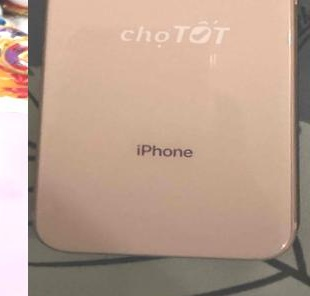scratch: (280, 0, 301, 122), (271, 230, 295, 252), (203, 47, 223, 68)
